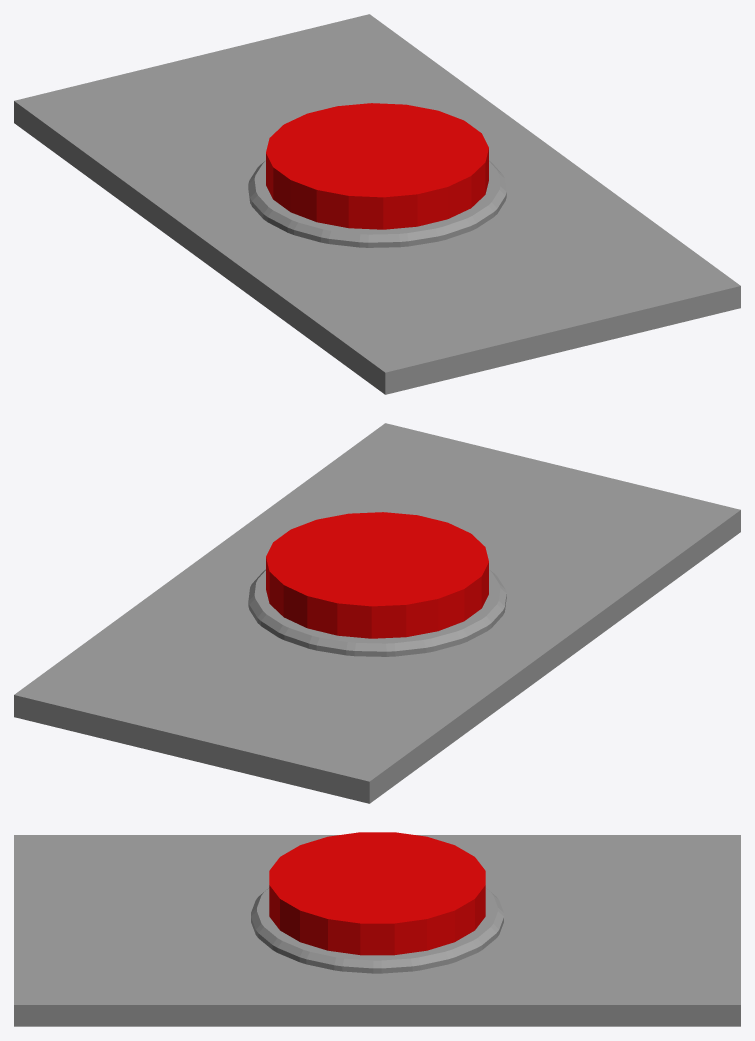
File: Button.fbx
3 views of the same model, one above another, from view 1: azimuth 30°, elevation 25°; view 2: azimuth 150°, elevation 25°; view 3: azimuth 270°, elevation 25° (orthographic). The views are drawn at different scales.
Visible parts, largest first — view 1: pCylinder2; view 2: pCylinder2; view 3: pCylinder2.
Boxes of the visible parts, <box> form: pCylinder2: <box>14,14,740,394</box>; pCylinder2: <box>14,423,740,803</box>; pCylinder2: <box>14,832,740,1026</box>.
Size of the model in its own units: 11.63 by 2.04 by 21.03.
